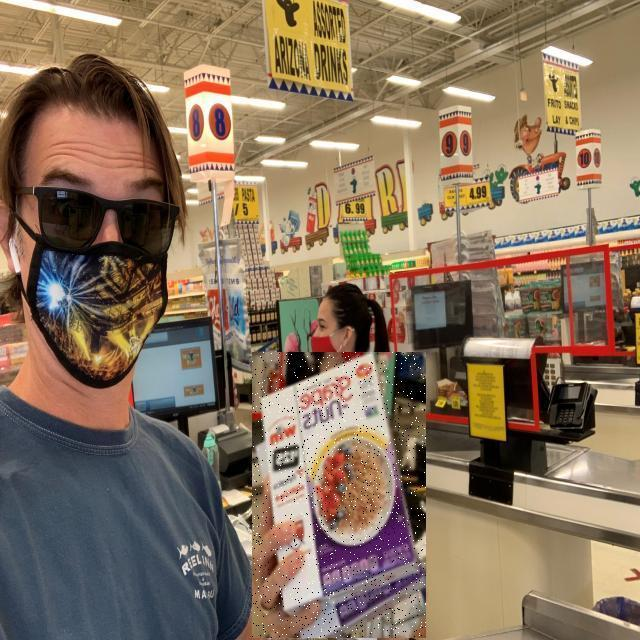Cereal: (252, 352, 426, 638)
